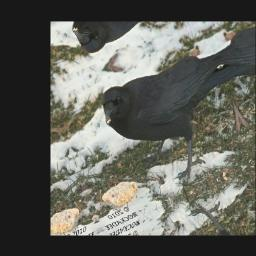Crow: (95, 39, 250, 205)
